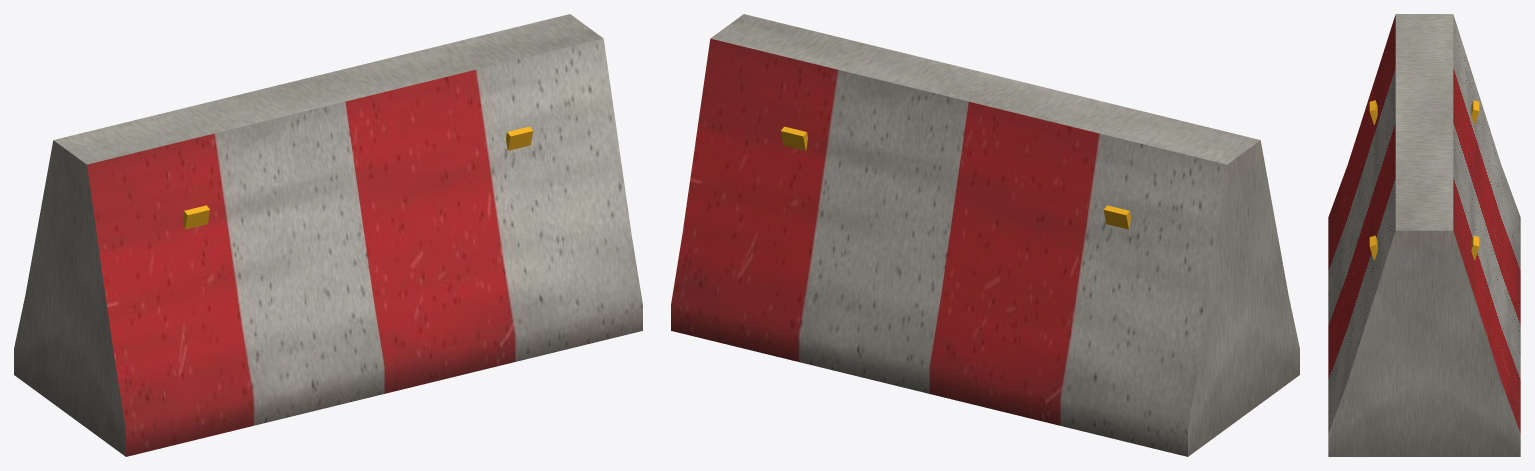
The model's file is bp_barrier.glb.
3 views of the same model, side by side, from view 1: azimuth 30°, elevation 25°; view 2: azimuth 150°, elevation 25°; view 3: azimuth 270°, elevation 25° (orthographic). The views are drawn at different scales.
Parts seen in each view (by area): view 1: bp_barrier_body; view 2: bp_barrier_body; view 3: bp_barrier_body.
Part boxes in pixels (bbox=[...]): bp_barrier_body: bbox=[14, 14, 642, 456]; bp_barrier_body: bbox=[671, 14, 1299, 456]; bp_barrier_body: bbox=[1328, 14, 1520, 456].
Bounding box in the file's own units: 1.6 × 0.78 × 0.6.
Materials: 1 (1 with a texture image).
